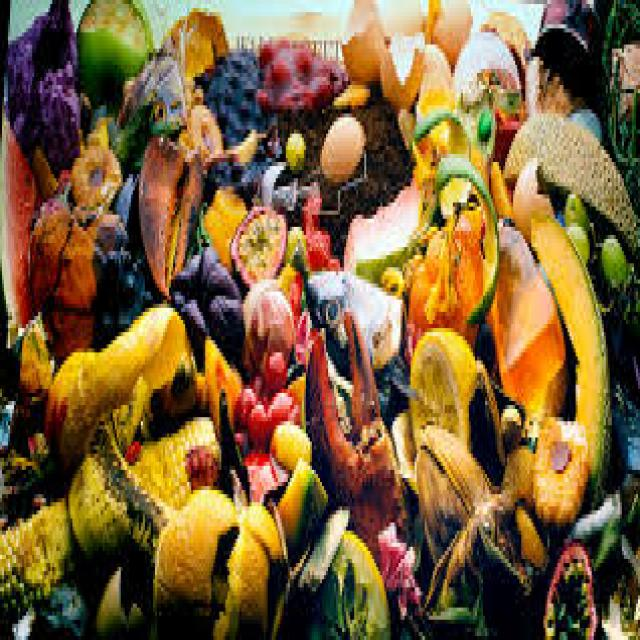food_waste: (17, 29, 627, 617)
